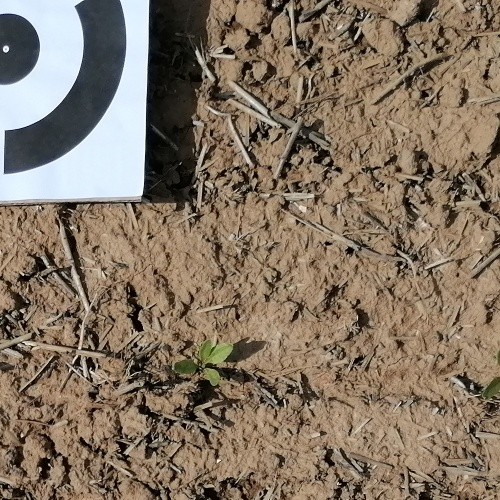beet: (173, 338, 232, 386), (482, 356, 500, 408)
